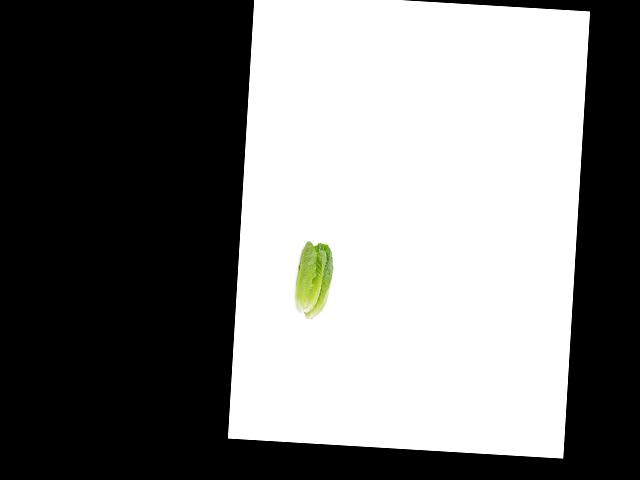lettuce: (289, 239, 334, 319)
